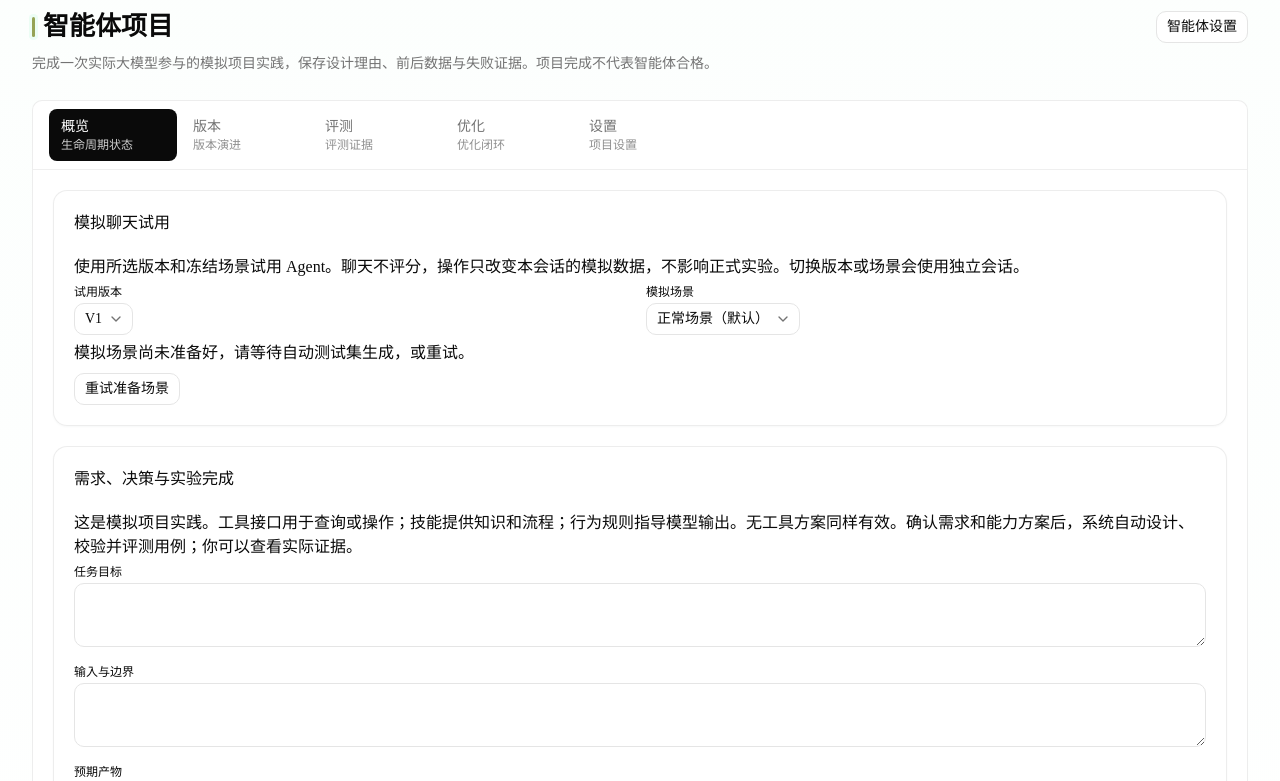
reads retained optimization outcomes and patch evidence after analysis
This screenshot has width=1280, height=781.
Click the button "评测 评测证据": (377, 134) [313,108,441,160]
(page scrolled)
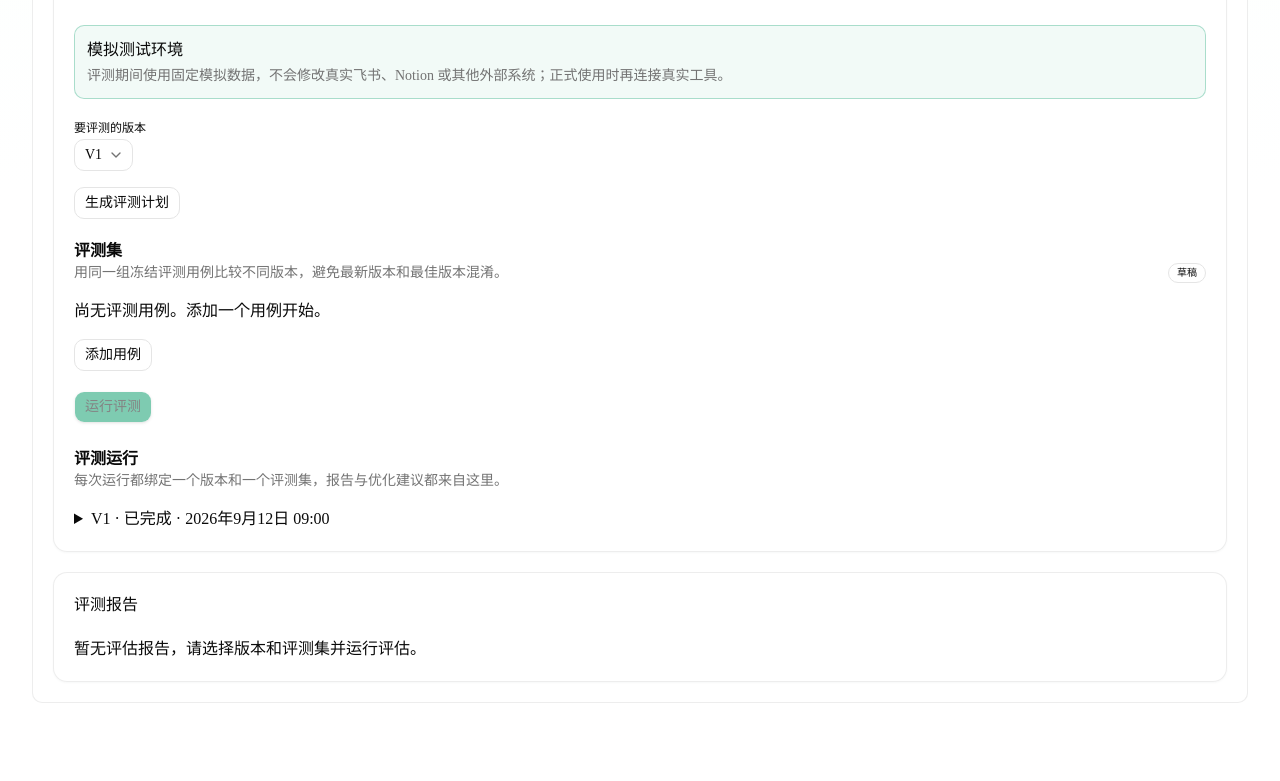
Click the heading "V1 · 已完成 · 2026年9月12日 09:00": (210, 518) [91,510,330,526]
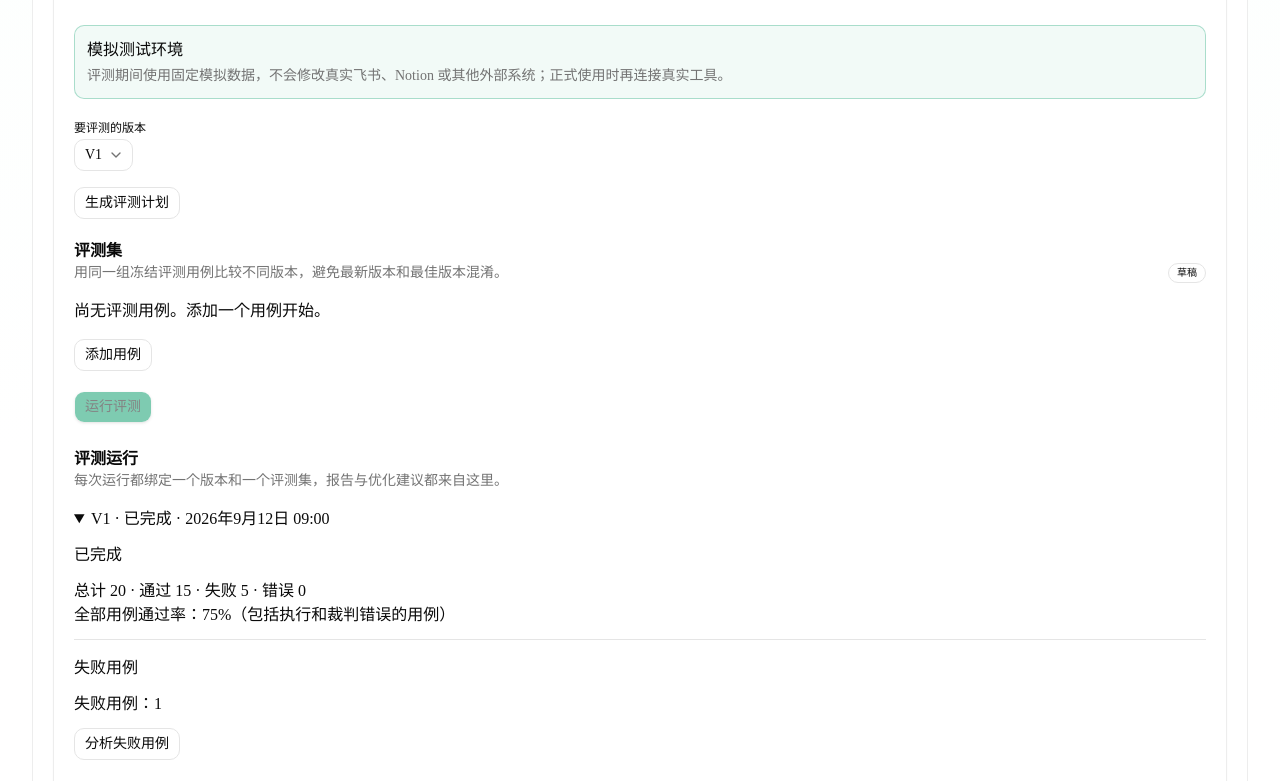
Click the button "分析失败用例": (127, 744) [74,728,180,760]
(page scrolled)
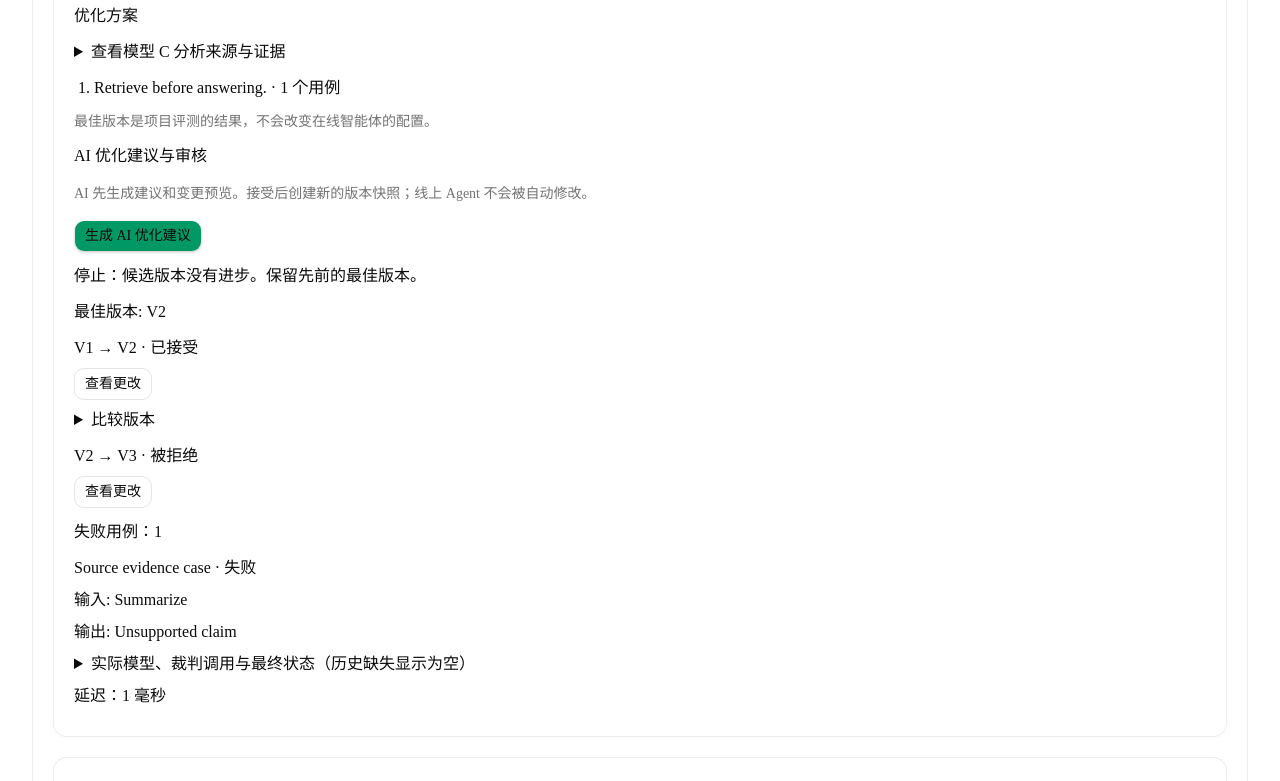
Expected: the text "最佳版本: V2" is shown, [74,302,166,320]
Click the button "查看更改" below "已接受": (113, 384) [74,368,152,400]
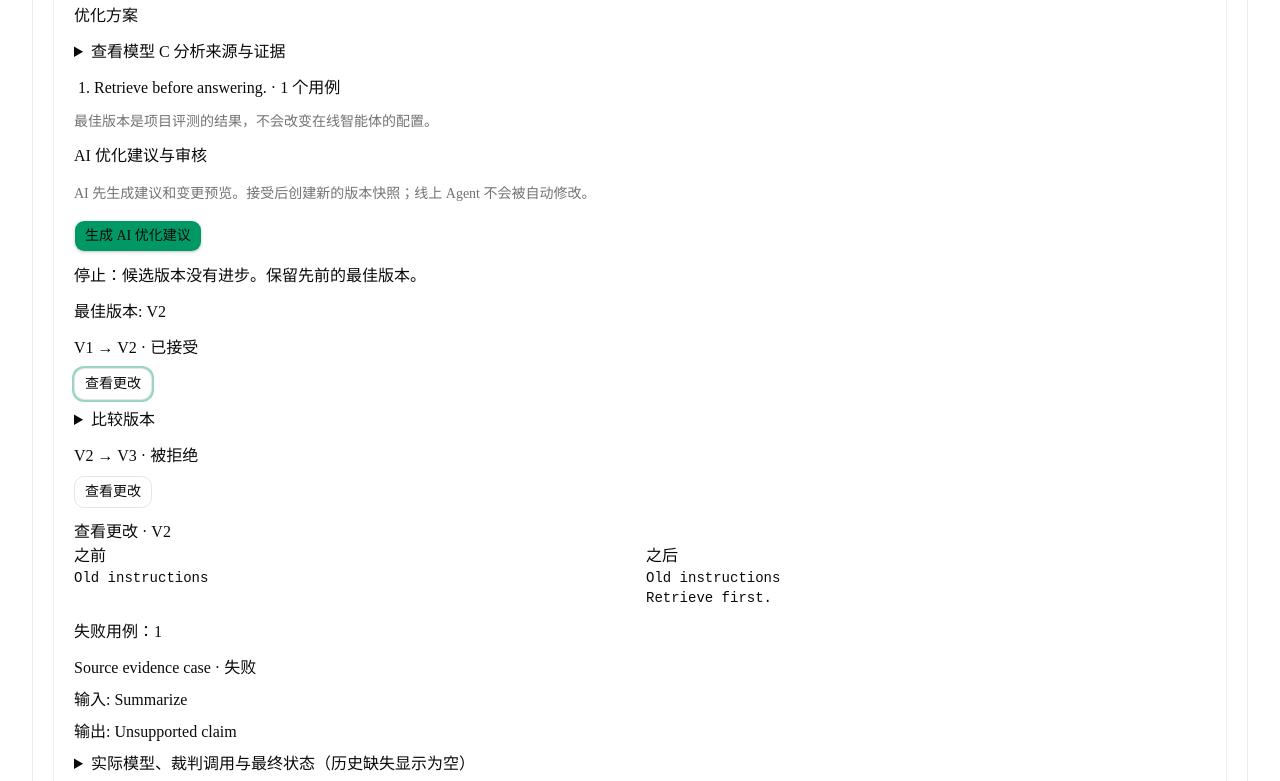
Expected: the button "生成 AI 优化建议" is enabled, [74,220,202,252]
Expected: the text "最佳版本是项目评测的结果，不会改变在线智能体的配置。" is shown, [74,114,438,128]
Expected: the text "Old instructions Retrieve first." is shown, [646,570,780,606]
